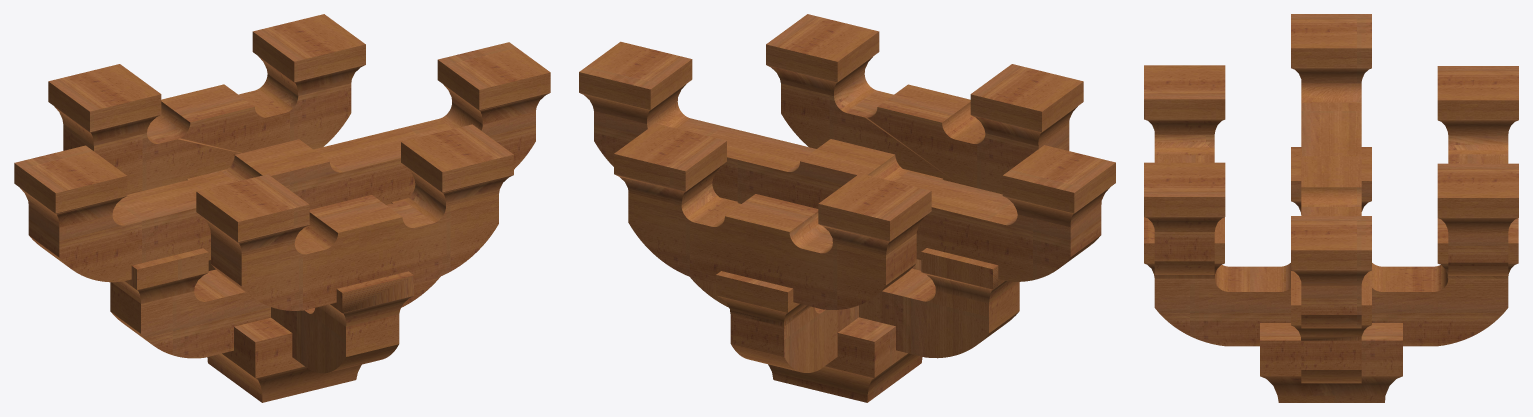
The picture shows the model from 3 angles, left to right: view 1: azimuth 30°, elevation 25°; view 2: azimuth 150°, elevation 25°; view 3: azimuth 270°, elevation 25°; orthographic projection. The views are drawn at different scales.
Visible parts, largest first — view 1: samor_4136_6178, samor_4136_6186, samor_4136_6183, samor_4136_6180, samor_4136_6179, samor_4136_6184, samor_4136_6177, samor_4136_6176, samor_4136_6182, samor_4136_6181, samor_4136_6185, samor_4136_6175; view 2: samor_4136_6178, samor_4136_6183, samor_4136_6186, samor_4136_6180, samor_4136_6179, samor_4136_6176, samor_4136_6184, samor_4136_6177, samor_4136_6185, samor_4136_6182, samor_4136_6181, samor_4136_6175; view 3: samor_4136_6179, samor_4136_6178, samor_4136_6175, samor_4136_6180, samor_4136_6181, samor_4136_6185, samor_4136_6184, samor_4136_6182, samor_4136_6176, samor_4136_6177, samor_4136_6183, samor_4136_6186.
Part boxes in pixels (x1,y1,x2,y2): samor_4136_6178: [28, 102, 535, 282]; samor_4136_6186: [211, 184, 498, 310]; samor_4136_6183: [63, 74, 351, 194]; samor_4136_6180: [110, 198, 440, 358]; samor_4136_6179: [186, 169, 413, 373]; samor_4136_6184: [196, 174, 309, 256]; samor_4136_6177: [14, 145, 127, 227]; samor_4136_6176: [437, 42, 550, 124]; samor_4136_6182: [48, 64, 161, 145]; samor_4136_6181: [252, 14, 365, 95]; samor_4136_6185: [401, 124, 513, 206]; samor_4136_6175: [207, 317, 361, 402]; samor_4136_6178: [594, 102, 1101, 281]; samor_4136_6183: [628, 183, 916, 309]; samor_4136_6186: [781, 74, 1069, 194]; samor_4136_6180: [690, 197, 1019, 358]; samor_4136_6179: [716, 169, 943, 372]; samor_4136_6176: [579, 41, 692, 123]; samor_4136_6184: [970, 64, 1083, 145]; samor_4136_6177: [1002, 145, 1115, 227]; samor_4136_6185: [766, 14, 879, 96]; samor_4136_6182: [818, 173, 931, 255]; samor_4136_6181: [614, 123, 726, 205]; samor_4136_6175: [768, 317, 922, 402]; samor_4136_6179: [1144, 217, 1518, 346]; samor_4136_6178: [1301, 83, 1361, 328]; samor_4136_6175: [1260, 323, 1402, 402]; samor_4136_6180: [1291, 147, 1371, 383]; samor_4136_6181: [1437, 163, 1518, 233]; samor_4136_6185: [1144, 162, 1225, 231]; samor_4136_6184: [1144, 65, 1225, 134]; samor_4136_6182: [1437, 66, 1518, 135]; samor_4136_6176: [1291, 216, 1371, 285]; samor_4136_6177: [1291, 14, 1371, 83]; samor_4136_6183: [1448, 135, 1508, 275]; samor_4136_6186: [1154, 134, 1214, 274].
Size of the model in its own units: 45.41 by 22.26 by 30.45.
1 material, 1 textured.
